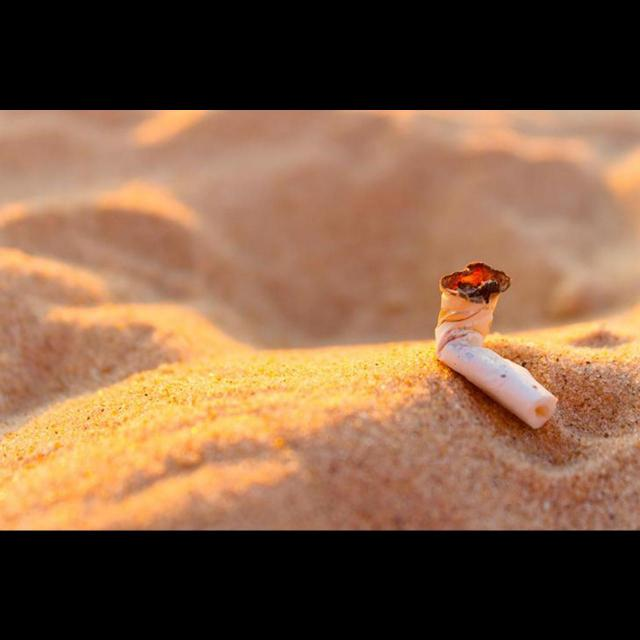cigarette: (436, 261, 558, 430)
